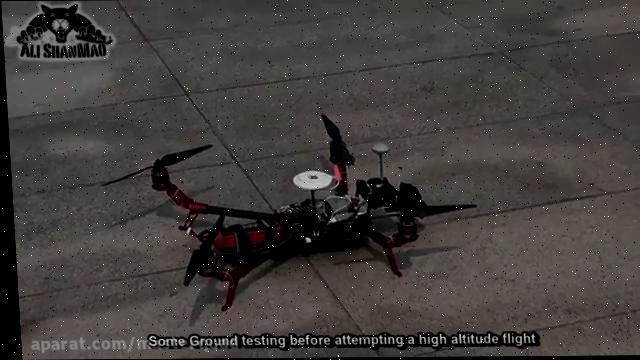drone: (90, 108, 480, 317)
